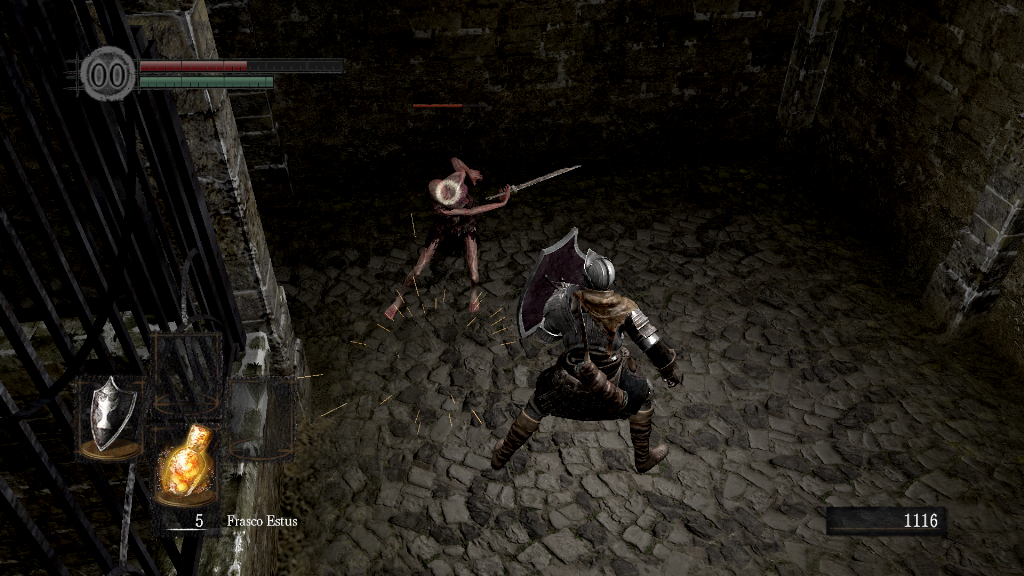health: (138, 58, 343, 71)
hollow: (383, 153, 510, 318)
humanity: (80, 45, 136, 102)
player: (488, 224, 688, 473)
souls: (825, 506, 945, 536)
stamina: (138, 74, 274, 88)
